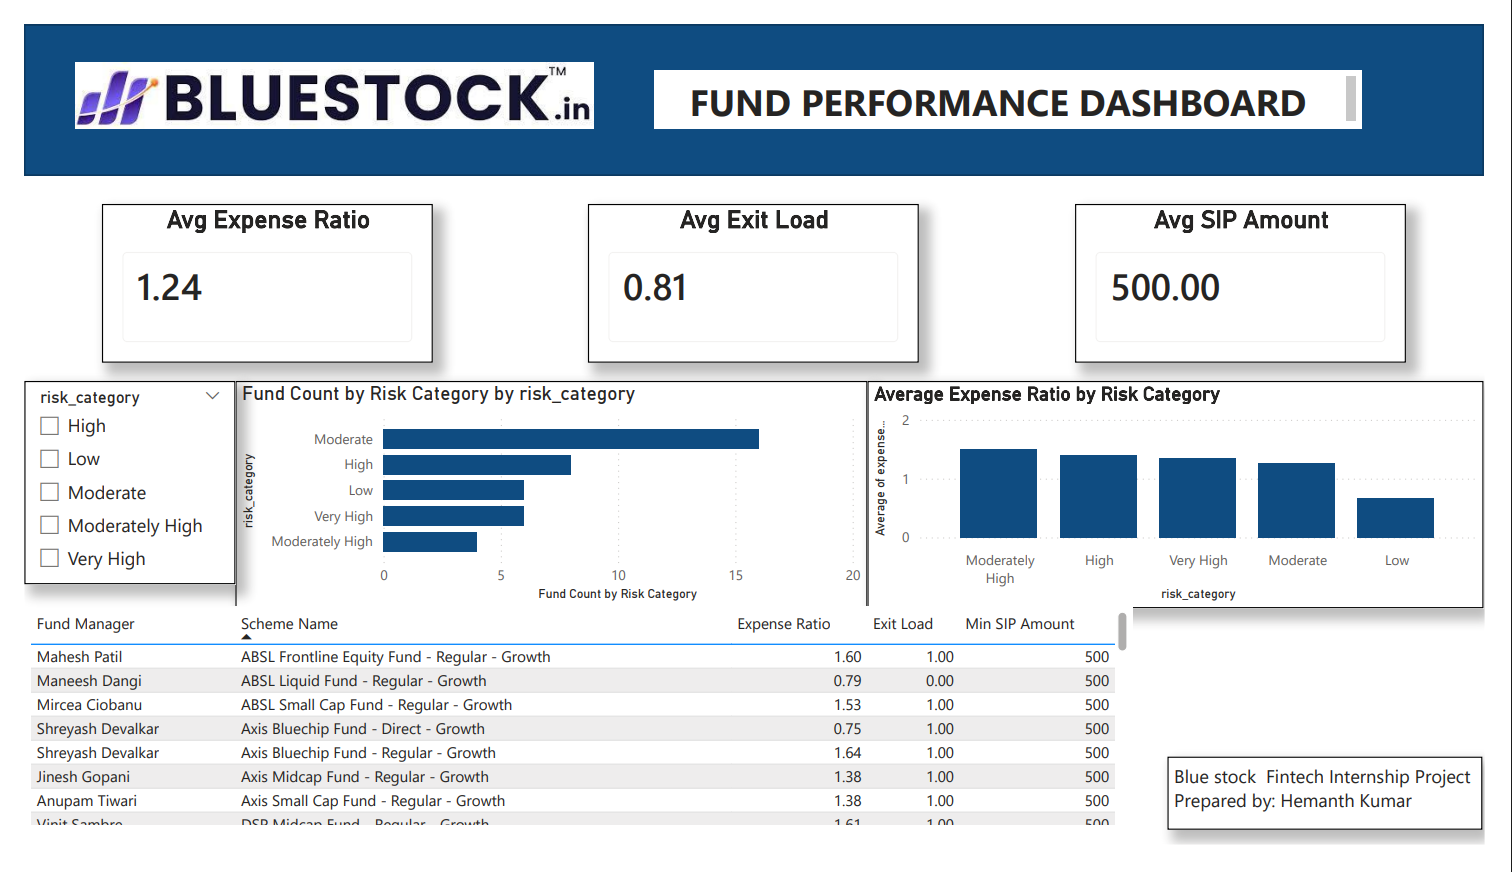

The page's visual inventory and layout, read from the dashboard file:
{"tool":"powerbi","page":{"name":"Fund Performance","canvas":[1280,720],"ordinal":1},"visuals":[{"type":"cardVisual","title":"Avg Expense Ratio","fields":{"Data":["01_fund_master.Avg Expense Ratio"]},"box":[68.2,159.4,289.6,138.7],"z":0},{"type":"cardVisual","title":"Avg Exit Load","fields":{"Data":["01_fund_master.Avg Exit Load"]},"box":[494.1,159.4,289.6,138.7],"z":1000},{"type":"cardVisual","title":"Avg SIP Amount","fields":{"Data":["01_fund_master.Avg SIP Amount"]},"box":[921.2,159.4,289.6,138.7],"z":2000},{"type":"shape","box":[0,2.4,1278.8,131.2],"z":3000},{"type":"textbox","box":[551.8,42,619.9,50.7],"z":4000},{"type":"clusteredBarChart","fields":{"Category":["01_fund_master.risk_category"],"Y":["CountNonNull(01_fund_master.amfi_code)"]},"box":[185.4,314.3,553.2,198.4],"z":5000},{"type":"clusteredColumnChart","title":"Average Expense Ratio by Risk Category","fields":{"Category":["01_fund_master.risk_category"],"Y":["Avg(01_fund_master.expense_ratio_pct)"]},"box":[738.6,314.3,540.2,198.4],"z":6000},{"type":"tableEx","fields":{"Values":["01_fund_master.fund_manager","01_fund_master.scheme_name","01_fund_master.expense_ratio_pct","01_fund_master.exit_load_pct","01_fund_master.min_sip_amount"]},"box":[0,510.8,971.8,195.8],"z":7000},{"type":"slicer","fields":{"Values":["01_fund_master.risk_category"]},"box":[0,314.3,185.4,178.1],"z":8000},{"type":"textbox","box":[1002,642.5,275.9,64.1],"z":9000}]}

Visuals, with their boxes in screenshot pixels (x1, y1, x2, y2), scaled from the page's 1280x720 canvas onto the 1512x872 screenshot:
"Avg Expense Ratio" cardVisual: [81, 193, 423, 361]
"Avg Exit Load" cardVisual: [584, 193, 926, 361]
"Avg SIP Amount" cardVisual: [1088, 193, 1430, 361]
shape: [0, 3, 1511, 162]
textbox: [652, 51, 1384, 112]
clusteredBarChart - 01_fund_master.risk_category x CountNonNull(01_fund_master.amfi_code): [219, 381, 872, 621]
"Average Expense Ratio by Risk Category" clusteredColumnChart: [872, 381, 1511, 621]
tableEx - 01_fund_master.fund_manager x 01_fund_master.scheme_name: [0, 619, 1148, 856]
slicer - 01_fund_master.risk_category: [0, 381, 219, 596]
textbox: [1184, 778, 1510, 856]
